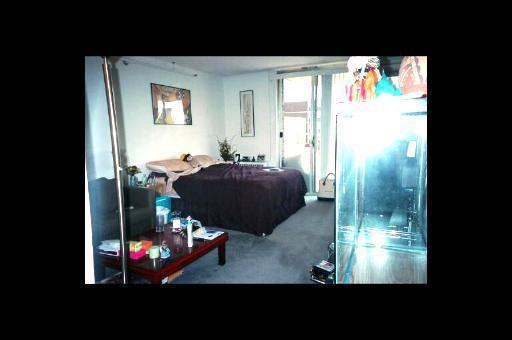Otro Obstaculo: (333, 105, 425, 282), (98, 60, 133, 280)
